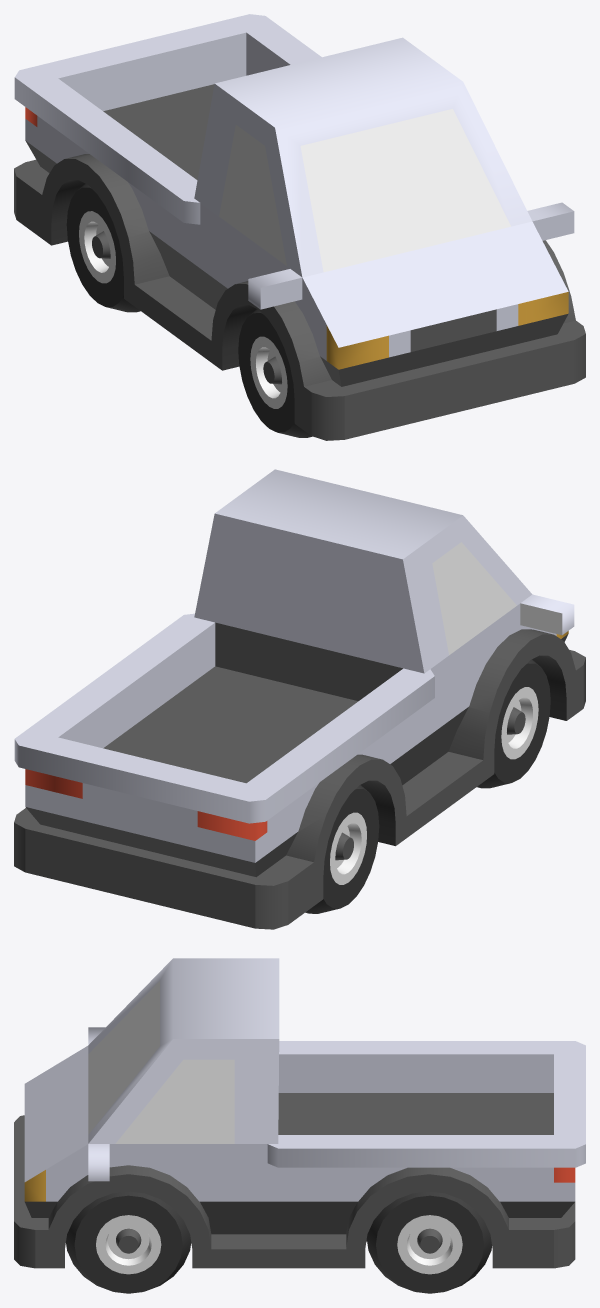
Rendered from truckFlat.obj.
3 views of the same model, one above another, from view 1: azimuth 30°, elevation 25°; view 2: azimuth 150°, elevation 25°; view 3: azimuth 270°, elevation 25° (orthographic). The views are drawn at different scales.
Visible parts, largest first — view 1: body, wheel_backRight, wheel_frontRight; view 2: body, wheel_frontRight, wheel_backRight; view 3: body, wheel_frontLeft, wheel_backLeft.
Boxes of the visible parts, x1,y1,x2,y2 form: body: (14, 14, 585, 440); wheel_backRight: (66, 183, 140, 312); wheel_frontRight: (238, 309, 312, 437); body: (14, 469, 585, 929); wheel_frontRight: (477, 659, 550, 788); wheel_backRight: (305, 785, 379, 913); body: (14, 958, 585, 1268); wheel_frontLeft: (66, 1191, 191, 1293); wheel_backLeft: (366, 1191, 491, 1293).
Size of the model in its own units: 1.5 by 1.3 by 2.7.
